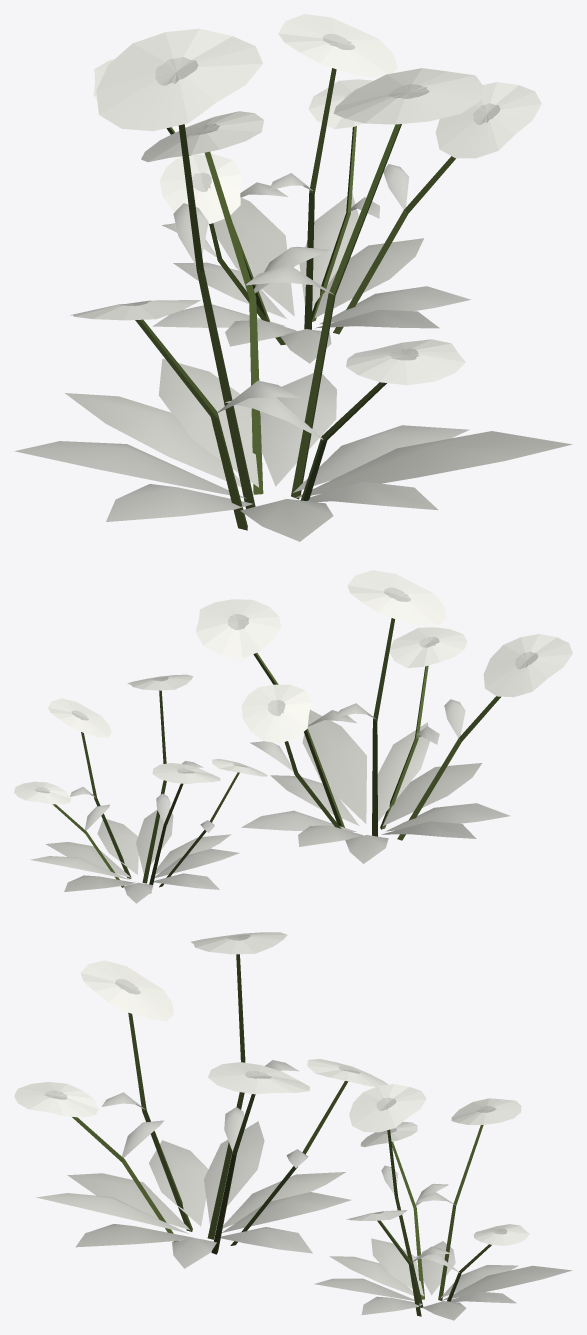
Rendered from SM_ForestFlower.fbx.
3 renders of one model, top to bottom at view 1: azimuth 30°, elevation 25°; view 2: azimuth 150°, elevation 25°; view 3: azimuth 270°, elevation 25°, orthographic. The views are drawn at different scales.
Visible parts, largest first — view 1: SM_ForestFlower.001; view 2: SM_ForestFlower.001; view 3: SM_ForestFlower.001.
Part boxes in pixels (left/top/right/bottom): SM_ForestFlower.001: left=14, top=14, right=572, bottom=541; SM_ForestFlower.001: left=14, top=570, right=572, bottom=903; SM_ForestFlower.001: left=14, top=932, right=572, bottom=1320.
Size of the model in its own units: 0.4773 by 0.547 by 0.313.
